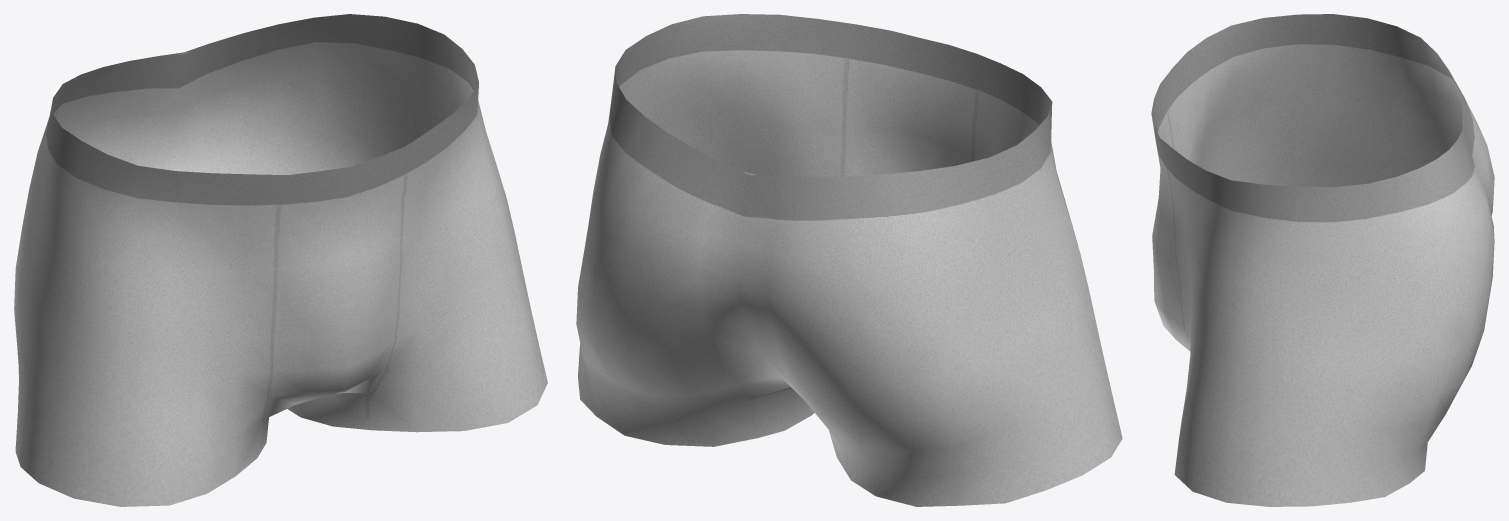
The model's file is free_mens_boxer_briefs__low_poly_3d_model.glb.
3 renders of one model, left to right at view 1: azimuth 30°, elevation 25°; view 2: azimuth 150°, elevation 25°; view 3: azimuth 270°, elevation 25°, orthographic. The views are drawn at different scales.
Visible parts, largest first — view 1: male_underwear; view 2: male_underwear; view 3: male_underwear.
Boxes of the visible parts, <box> form: male_underwear: <box>14,14,547,506</box>; male_underwear: <box>576,14,1122,506</box>; male_underwear: <box>1151,14,1494,506</box>.
Bounding box in the file's own units: 0.2863 × 0.1812 × 0.184.
1 material, 1 textured.
